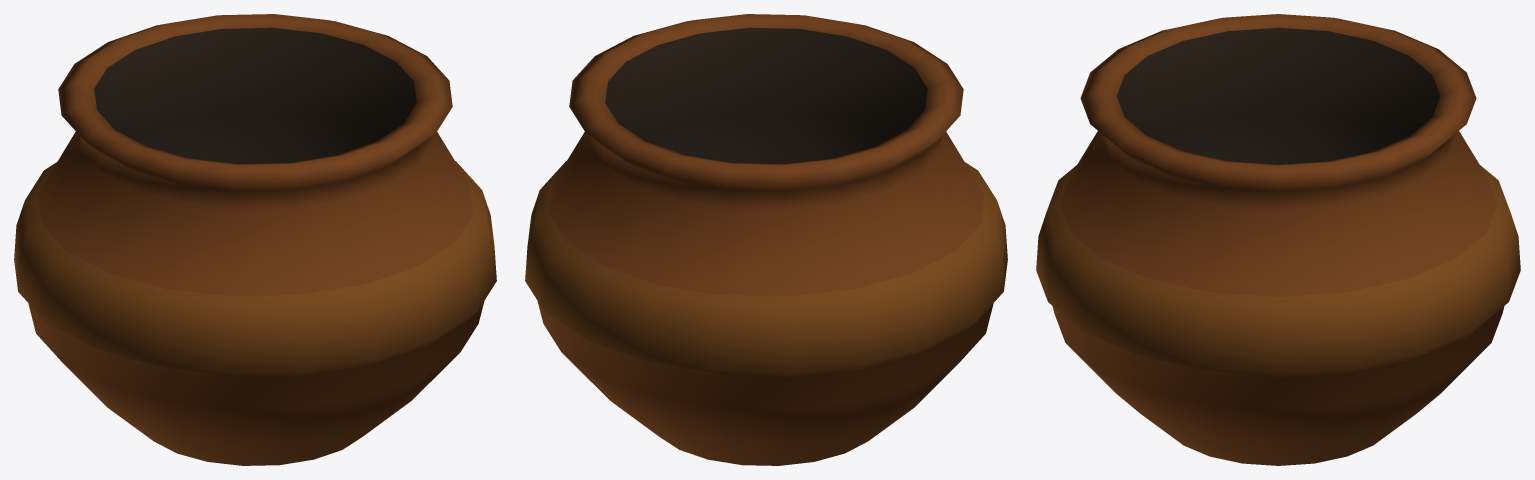
The model's file is mk_vase_2.glb.
The picture shows the model from 3 angles, left to right: view 1: azimuth 30°, elevation 25°; view 2: azimuth 150°, elevation 25°; view 3: azimuth 270°, elevation 25°; orthographic projection.
Visible parts, largest first — view 1: Vase_2; view 2: Vase_2; view 3: Vase_2.
Part boxes in pixels (<box>): Vase_2: <box>14,14,496,465</box>; Vase_2: <box>525,14,1007,465</box>; Vase_2: <box>1036,14,1520,465</box>.
Bounding box in the file's own units: 0.6947 × 0.5163 × 0.6947.
